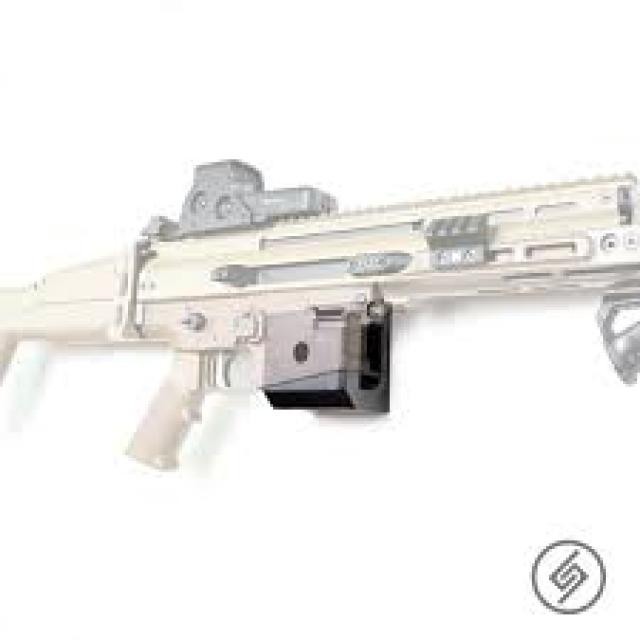Gun: (12, 125, 640, 486)
